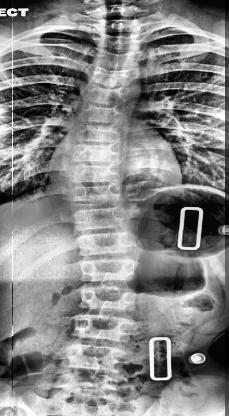Vertebrae: (75, 310, 139, 348), (78, 226, 134, 260), (73, 142, 131, 172), (73, 122, 131, 152), (82, 285, 140, 313), (84, 257, 138, 287), (69, 342, 122, 372), (71, 162, 127, 190), (83, 83, 139, 109), (72, 206, 128, 230), (71, 184, 127, 208), (82, 104, 128, 128), (100, 32, 142, 58), (94, 51, 140, 73), (91, 68, 139, 88), (102, 17, 143, 37)
